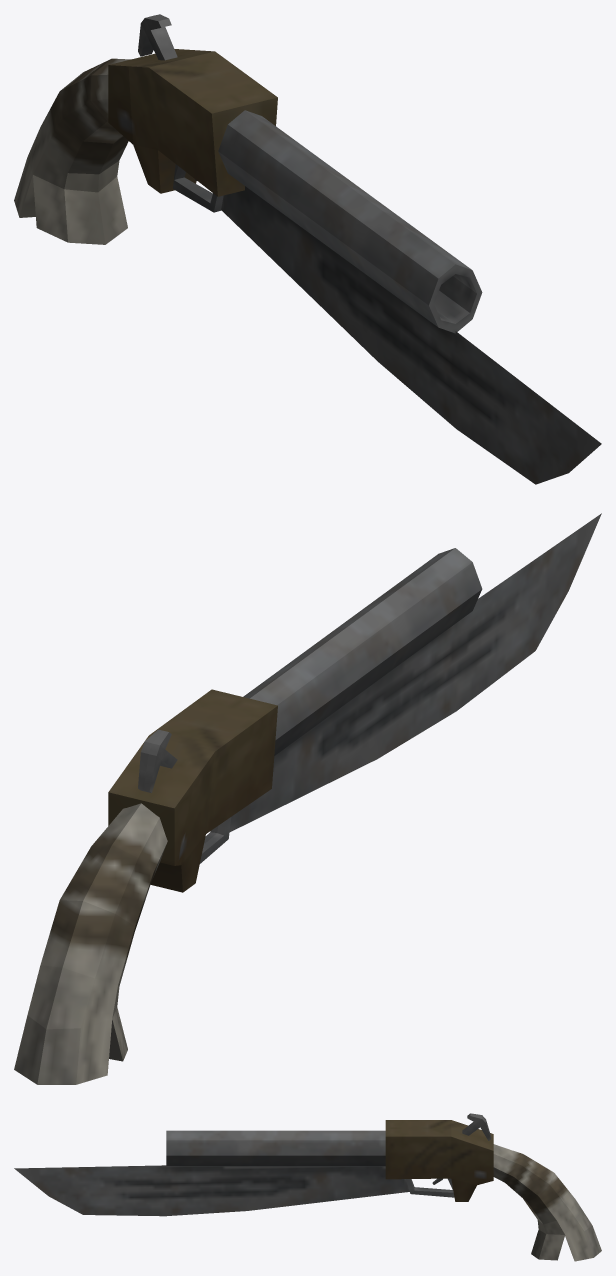
The model's file is kobold gun.fbx.
3 views of the same model, one above another, from view 1: azimuth 30°, elevation 25°; view 2: azimuth 150°, elevation 25°; view 3: azimuth 270°, elevation 25° (orthographic). The views are drawn at different scales.
Parts seen in each view (by area): view 1: gun; view 2: gun; view 3: gun.
Part boxes in pixels (x1,y1,x2,y2): gun: (14,14,601,484); gun: (14,513,601,1084); gun: (14,1113,601,1261).
Size of the model in its own units: 52.13 by 151 by 578.
